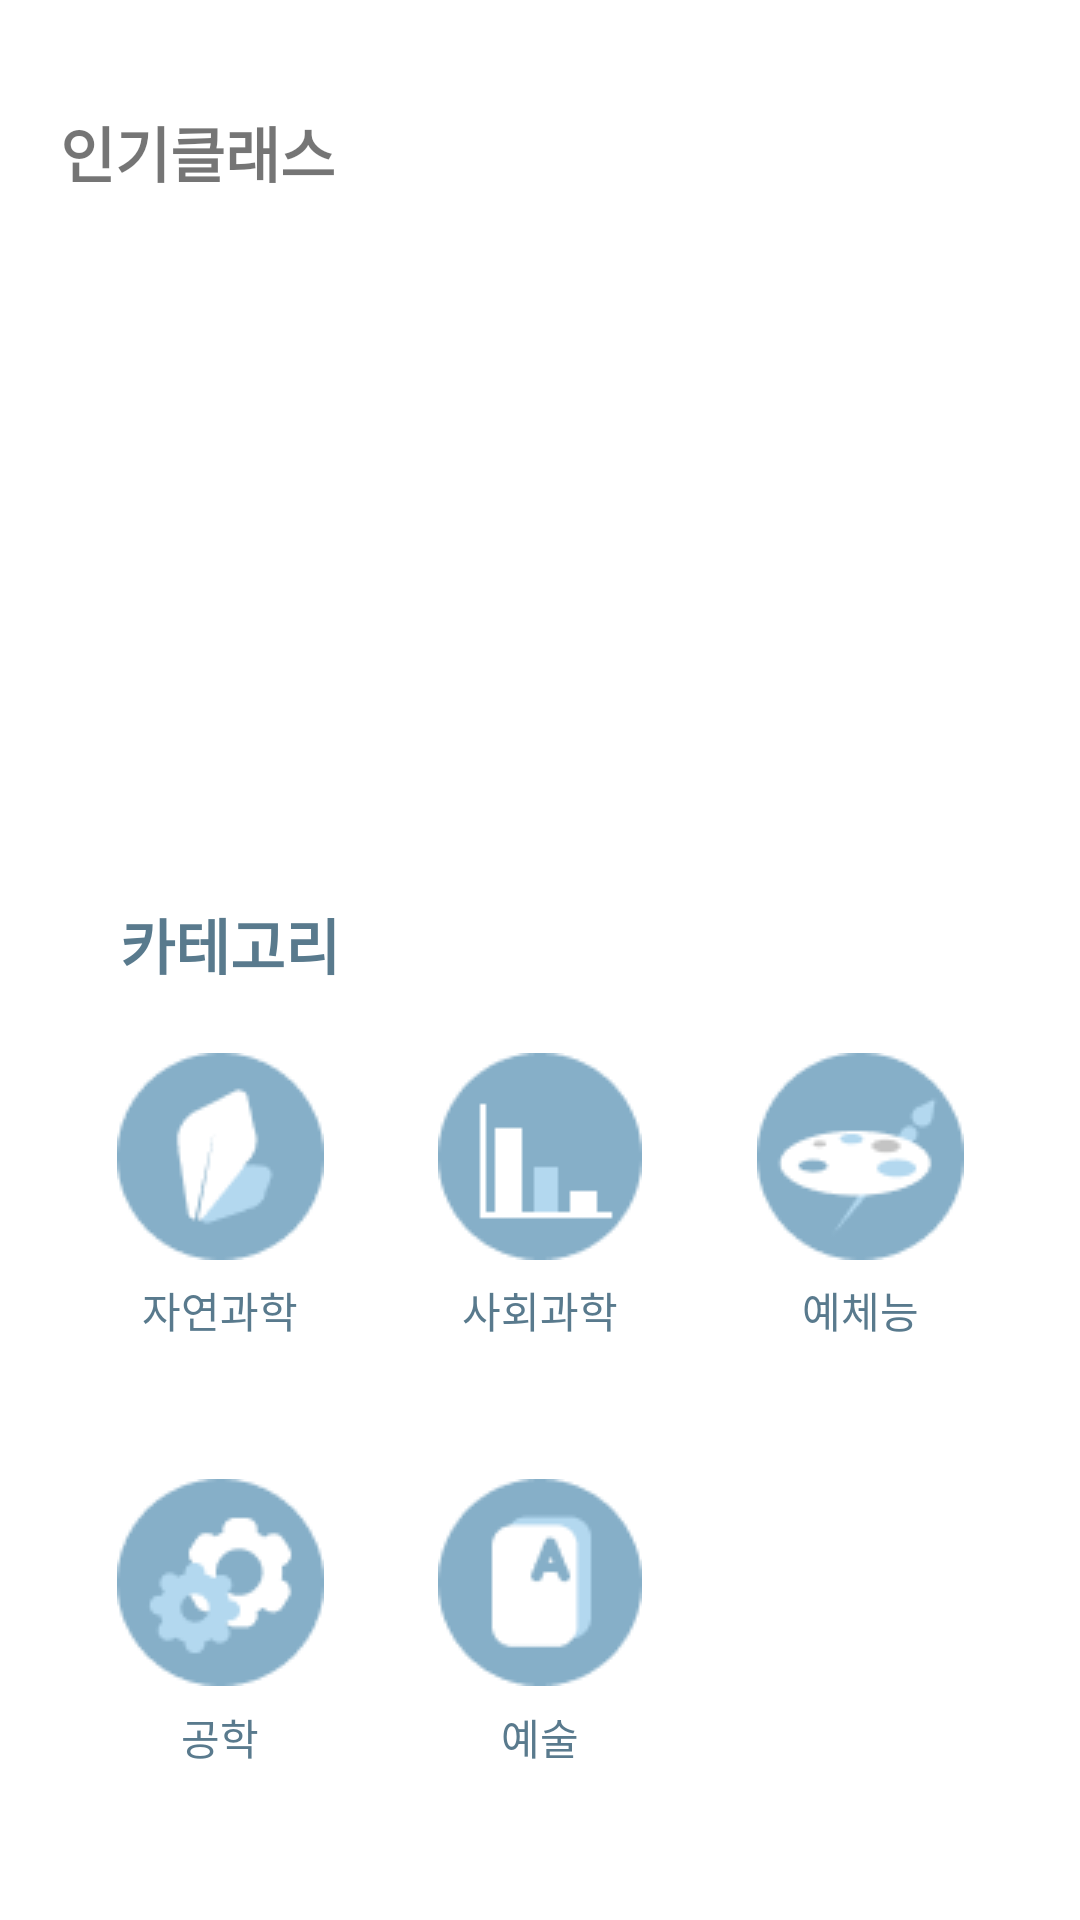

Where icons sit on this 1080×1920 app screen, as rect(x1, y1, x2, y2):
category language: rect(438, 1479, 642, 1686)
